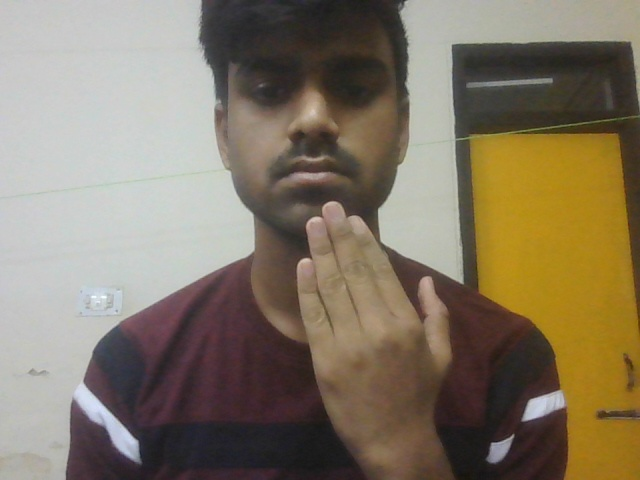thanks: (277, 193, 487, 480)
